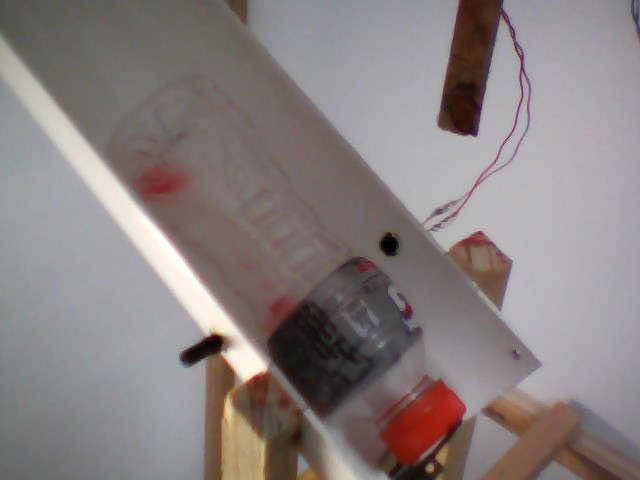plastico: (93, 62, 477, 460)
